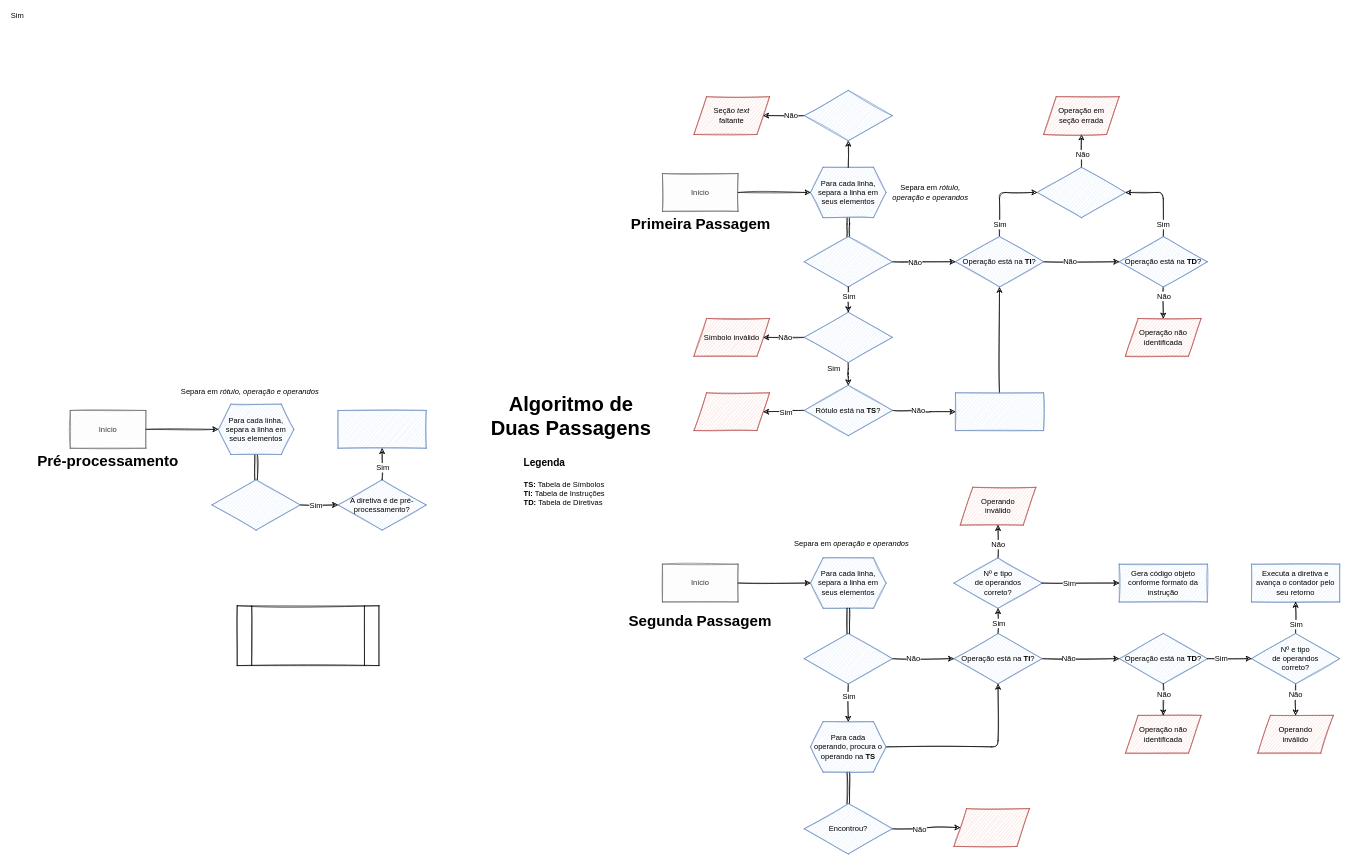
Image size: 1351x865. Some labels were removed from this diagram. The shapes that lost their labels are listed below. From the top down, each one's centre as x and y in pixels, then its label:
the point at 848,115: Seção text presente?
the point at 1081,192: Operação está na seção correta?
the point at 848,261: Existe rótulo?
the point at 848,337: Rótulo é válido?
the point at 381,429: Resolve a diretiva segundo sua instrução
the point at 731,411: Símbolo redefinido
the point at 999,411: Insere símbolo e sua posição na TS
the point at 255,504: A operação está na TD ?
the point at 308,635: Falta: Verificação de erros
the point at 848,658: Possui operandos?
the point at 991,827: Símbolo indefinido
